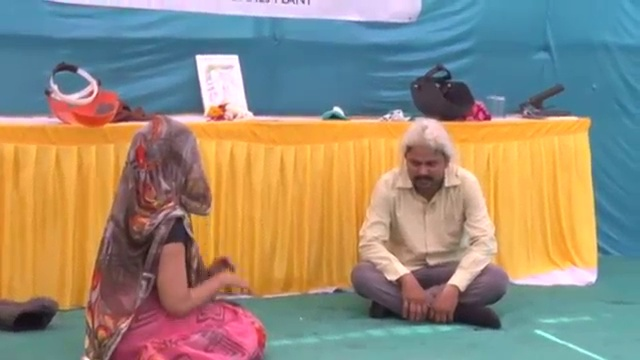helmet_off: (122, 119, 213, 214), (403, 123, 455, 190)
person: (73, 115, 268, 360), (348, 116, 511, 330)
